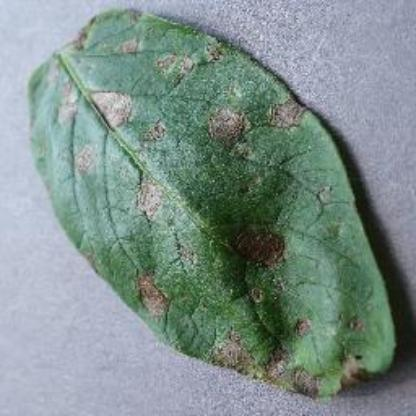Early-Blight: (24, 7, 400, 399)
